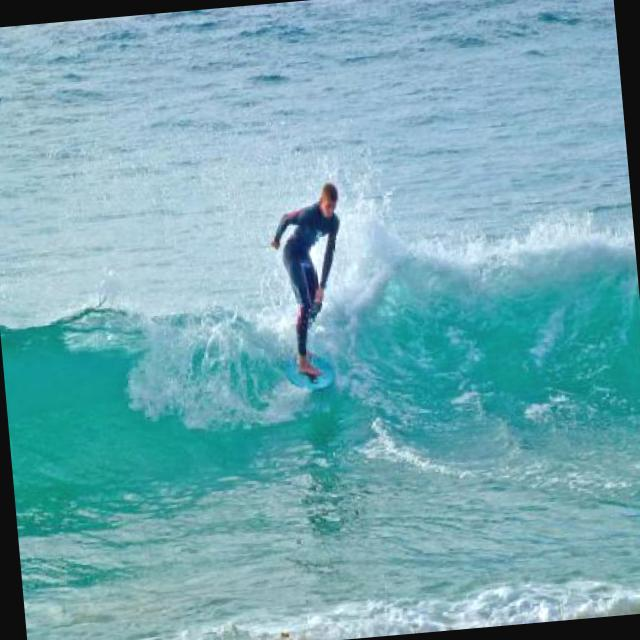Person: (268, 182, 354, 378)
